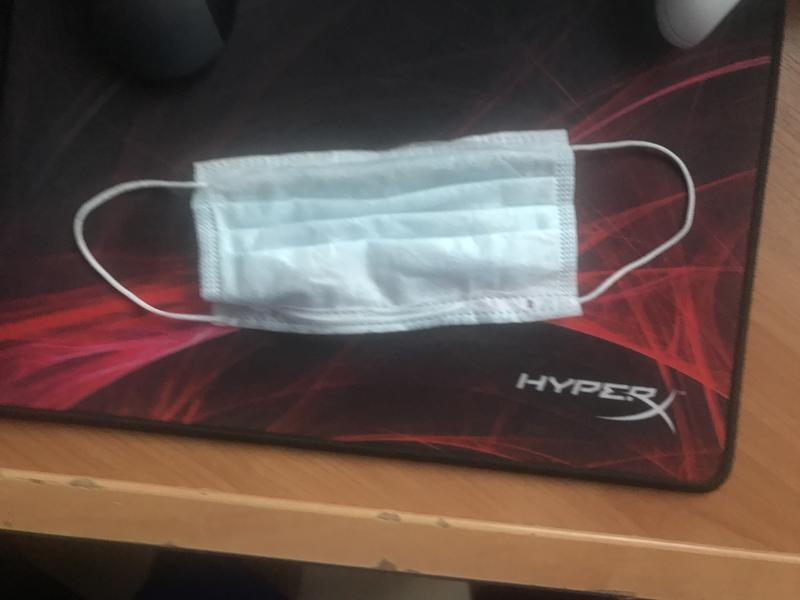medical_mask: (70, 131, 696, 332)
